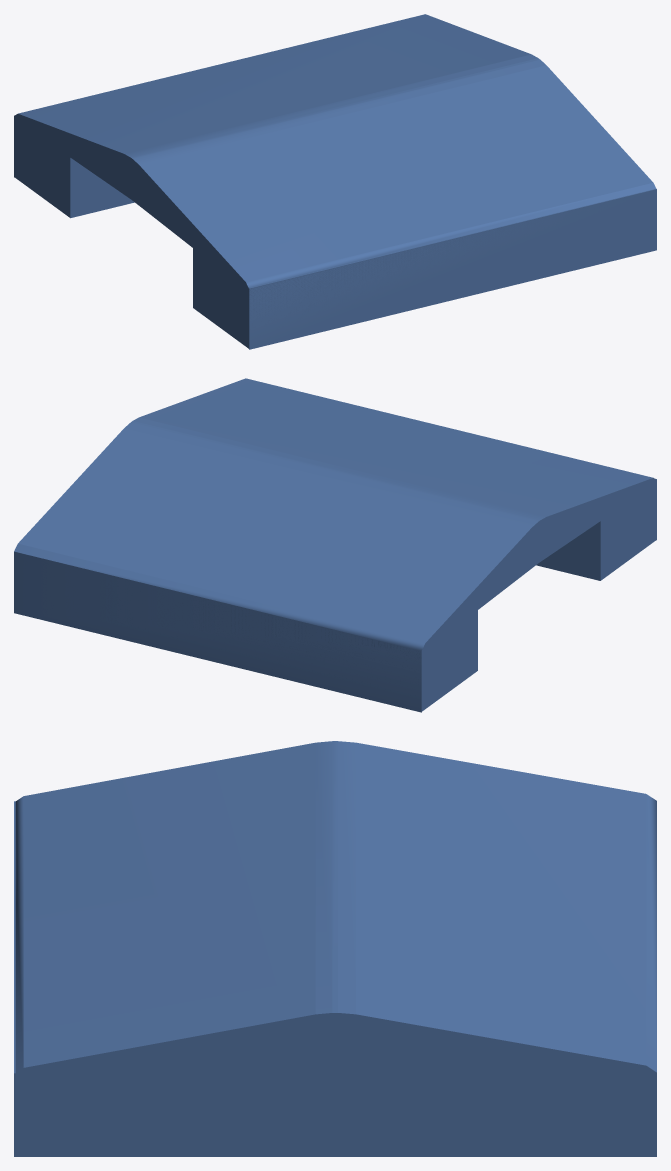
File: lorry-shelter.gltf
3 views of the same model, one above another, from view 1: azimuth 30°, elevation 25°; view 2: azimuth 150°, elevation 25°; view 3: azimuth 270°, elevation 25° (orthographic). The views are drawn at different scales.
Visible parts, largest first — view 1: base; view 2: base; view 3: base.
Part boxes in pixels (<box>): base: <box>14,14,656,349</box>; base: <box>14,378,656,712</box>; base: <box>14,741,656,1156</box>.
Size of what is drawn, in the model's own units: 0.1 by 0.0247 by 0.1.
